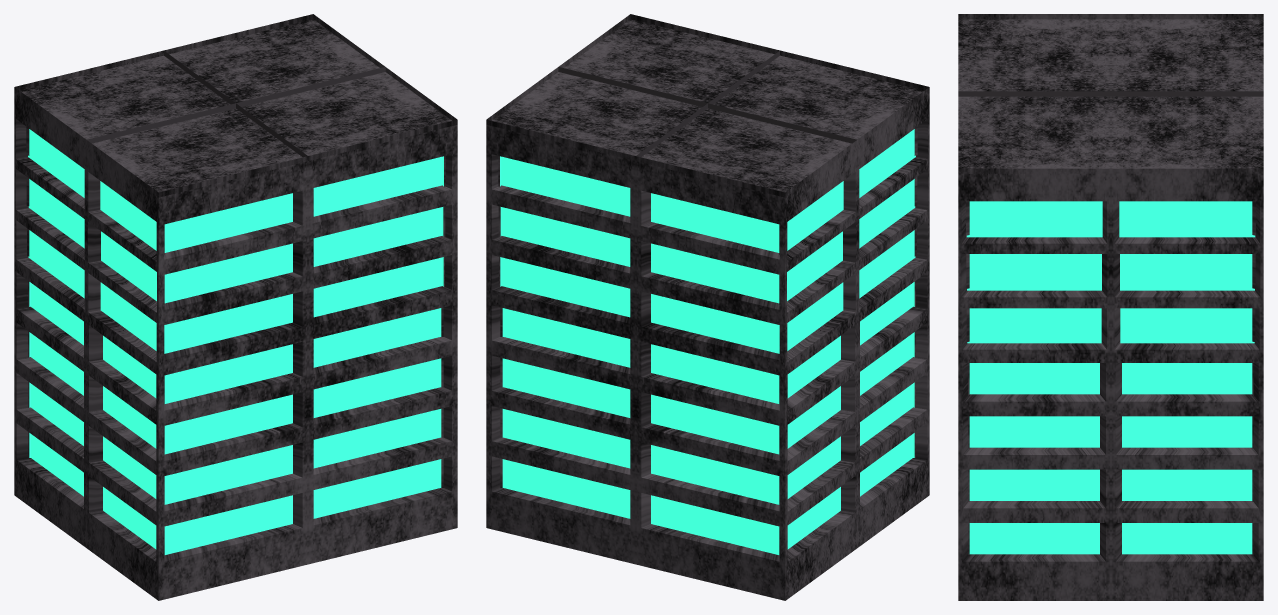
File: BP_AshenOffice.fbx
3 views of the same model, side by side, from view 1: azimuth 30°, elevation 25°; view 2: azimuth 150°, elevation 25°; view 3: azimuth 270°, elevation 25° (orthographic). The views are drawn at different scales.
Visible parts, largest first — view 1: Cube.001; view 2: Cube.001; view 3: Cube.001.
Part boxes in pixels (bbox=[...]): Cube.001: bbox=[14, 14, 457, 600]; Cube.001: bbox=[486, 14, 929, 600]; Cube.001: bbox=[958, 14, 1263, 600].
Bounding box in the file's own units: 636 × 830 × 531.
Materials: 2 (1 with a texture image).
